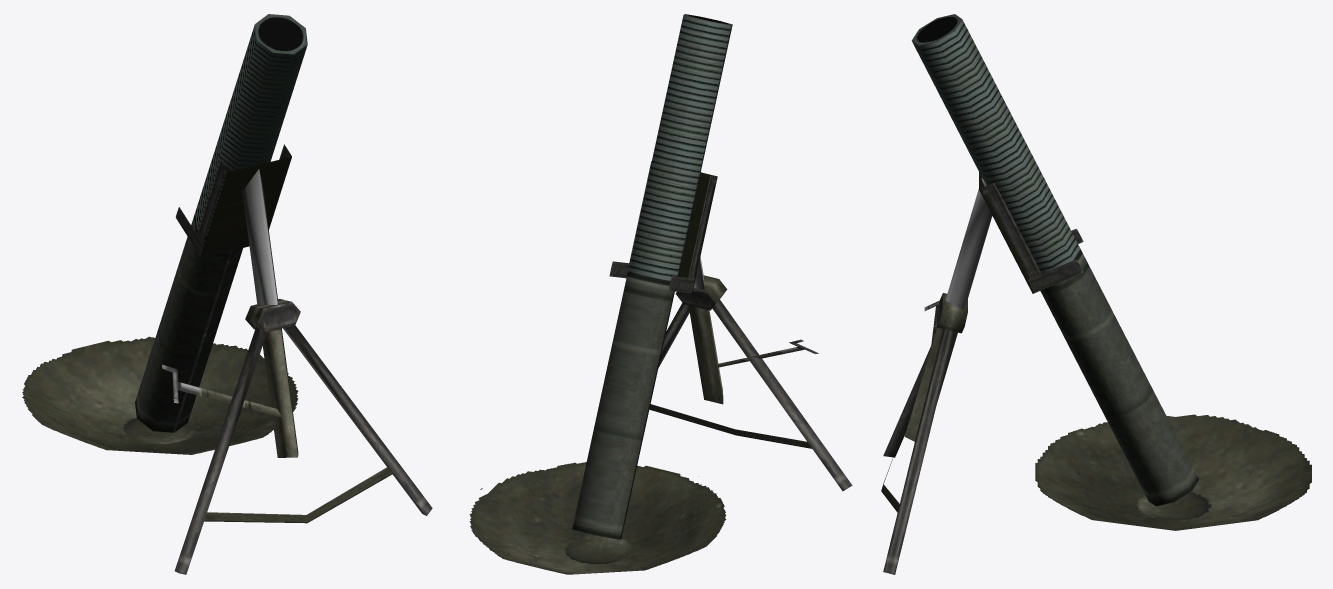
The model's file is MORTARX.glb.
3 renders of one model, left to right at view 1: azimuth 30°, elevation 25°; view 2: azimuth 150°, elevation 25°; view 3: azimuth 270°, elevation 25°, orthographic. The views are drawn at different scales.
Parts seen in each view (by area): view 1: _MORTARX; view 2: _MORTARX; view 3: _MORTARX.
Part boxes in pixels (<box>): _MORTARX: <box>22,14,432,574</box>; _MORTARX: <box>469,14,852,574</box>; _MORTARX: <box>881,14,1311,574</box>.
Size of the model in its own units: 0.8006 by 1.49 by 1.19.
Materials: 1 (1 with a texture image).
